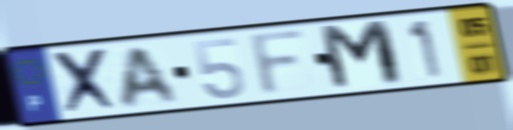1: (404, 17, 444, 82)
5: (189, 34, 247, 101)
A: (119, 43, 183, 111)
F: (247, 26, 310, 100)
M: (315, 17, 408, 94)
X: (49, 44, 124, 118)
